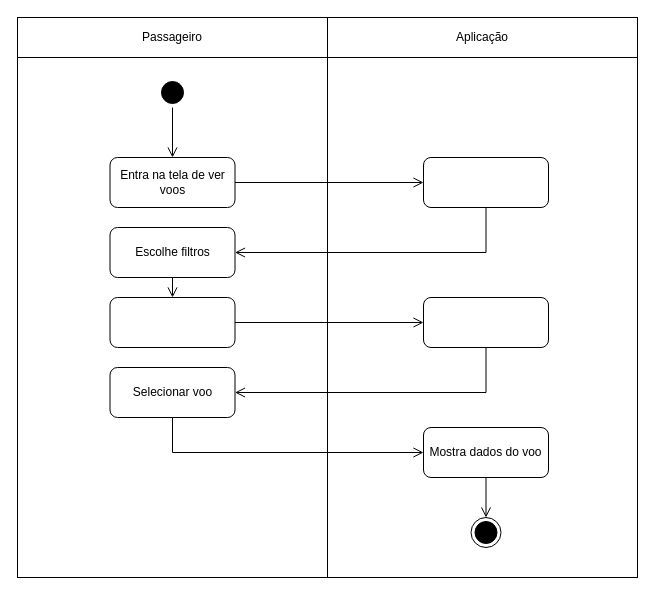
Image size: 655x595. Some labels were removed from this diagram. Here are the shapes that lost their labels. From the top down, the centre of each, then its label:
At (485,182): "Mostra próximos voos".
At (172,322): "Pesquisa por voos utilizando o filtro".
At (485,322): "Mostra voos com base no filtro selecionado".
